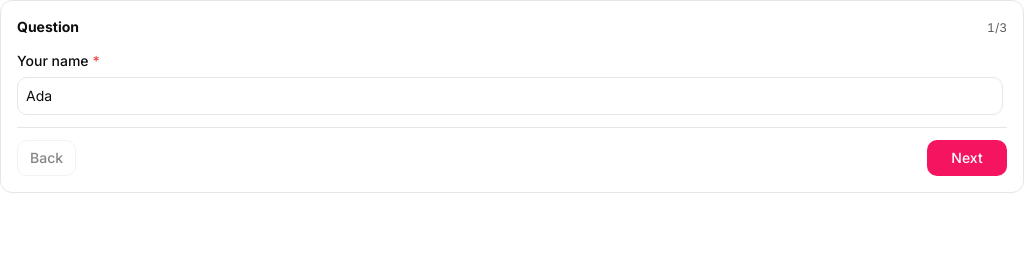
QuestionForm › reviews defaults and submits every answer as one payload
The image size is (1024, 272).
Later steps or results of the test are not shown.
Click the button "Next": [967, 158] box top-left (927, 140), bottom-right (1007, 176)
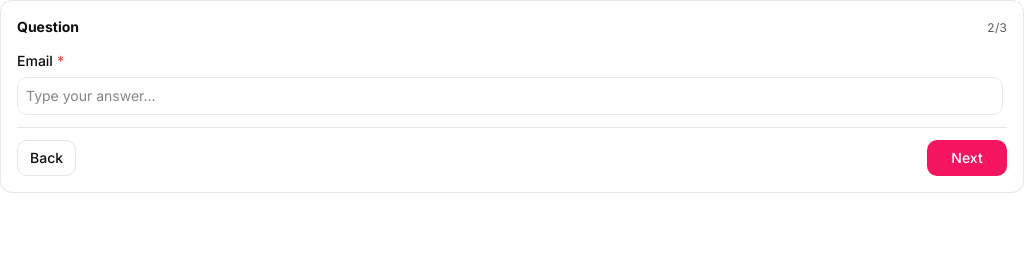
In the field labelled "Email*": [510, 96] box top-left (17, 77), bottom-right (1003, 115), type "ada@example.com"
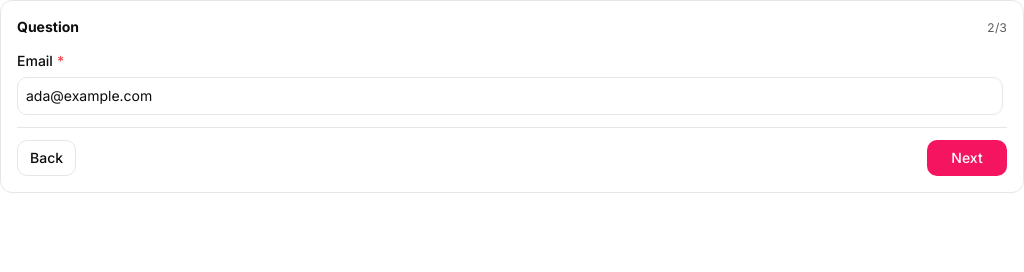
Click the button "Next": [967, 158] box top-left (927, 140), bottom-right (1007, 176)
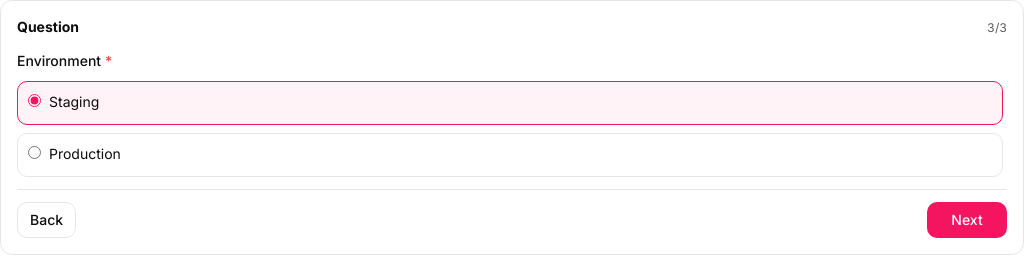
Click the button "Next": [967, 220] box top-left (927, 202), bottom-right (1007, 238)
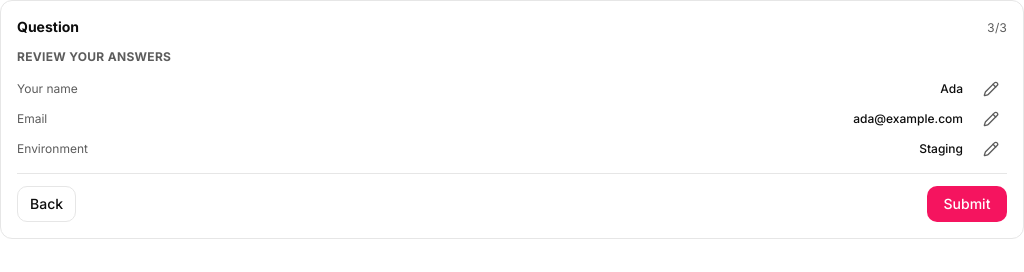
Result: the text "Review your answers" is shown at top-left (17, 49), bottom-right (171, 64)
Result: the text "Ada" is shown at top-left (940, 81), bottom-right (963, 96)
Result: the text "ada@example.com" is shown at top-left (853, 111), bottom-right (963, 126)
